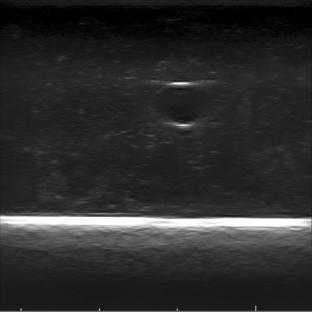vessel: (149, 80, 212, 130)
